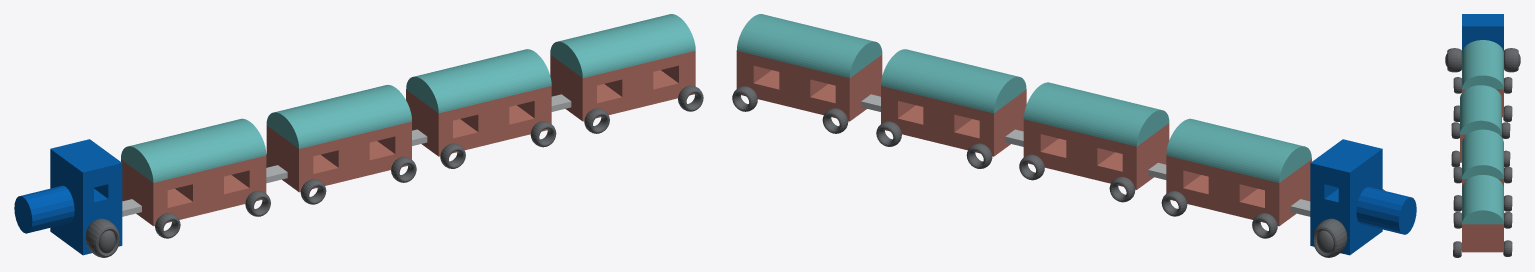
File: PRO-C150.glb
3 renders of one model, left to right at view 1: azimuth 30°, elevation 25°; view 2: azimuth 150°, elevation 25°; view 3: azimuth 270°, elevation 25°, orthographic. The views are drawn at different scales.
Parts seen in each view (by area): view 1: Mesh_Mesh_head_geo.001_lambert2SG.001; view 2: Mesh_Mesh_head_geo.001_lambert2SG.001; view 3: Mesh_Mesh_head_geo.001_lambert2SG.001.
Part boxes in pixels (x1=…): Mesh_Mesh_head_geo.001_lambert2SG.001: x1=14, y1=14, x2=703, y2=257; Mesh_Mesh_head_geo.001_lambert2SG.001: x1=732, y1=14, x2=1416, y2=257; Mesh_Mesh_head_geo.001_lambert2SG.001: x1=1445, y1=14, x2=1520, y2=257.
Size of the model in its own units: 233 by 28 by 36.
